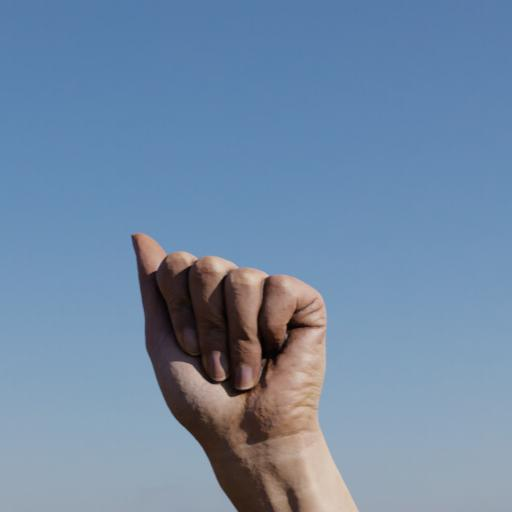A: (120, 219, 348, 512)
